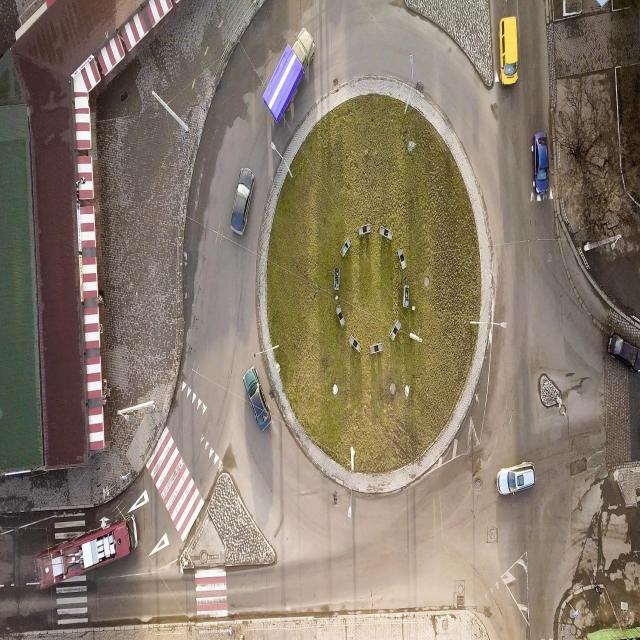Bus: (36, 512, 140, 591)
Car: (242, 362, 273, 435), (229, 165, 257, 239), (605, 329, 640, 374), (496, 459, 536, 498), (530, 130, 551, 197)
Truck: (260, 24, 320, 127)
Van: (497, 14, 520, 88)
